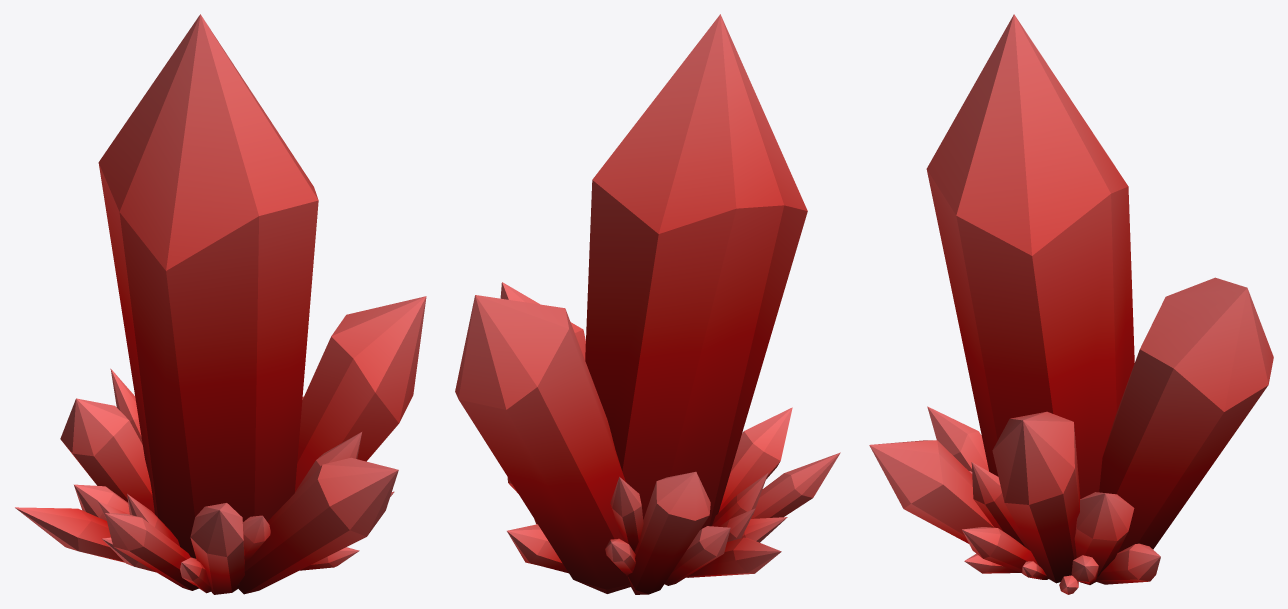
Rendered from crystal_breakable4.fbx.
3 views of the same model, side by side, from view 1: azimuth 30°, elevation 25°; view 2: azimuth 150°, elevation 25°; view 3: azimuth 270°, elevation 25° (orthographic). The views are drawn at different scales.
Parts seen in each view (by area): view 1: crystal_breakable4; view 2: crystal_breakable4; view 3: crystal_breakable4.
Boxes of the visible parts, x1,y1,x2,y2 form: crystal_breakable4: (15,14,426,594); crystal_breakable4: (455,14,840,594); crystal_breakable4: (869,14,1273,594).
Size of the model in its own units: 9.24 by 14.81 by 10.15.
